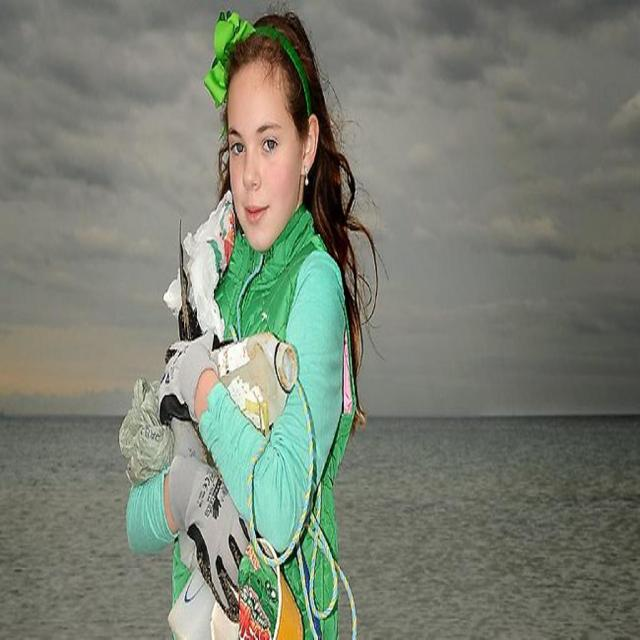Face: (221, 69, 304, 254)
